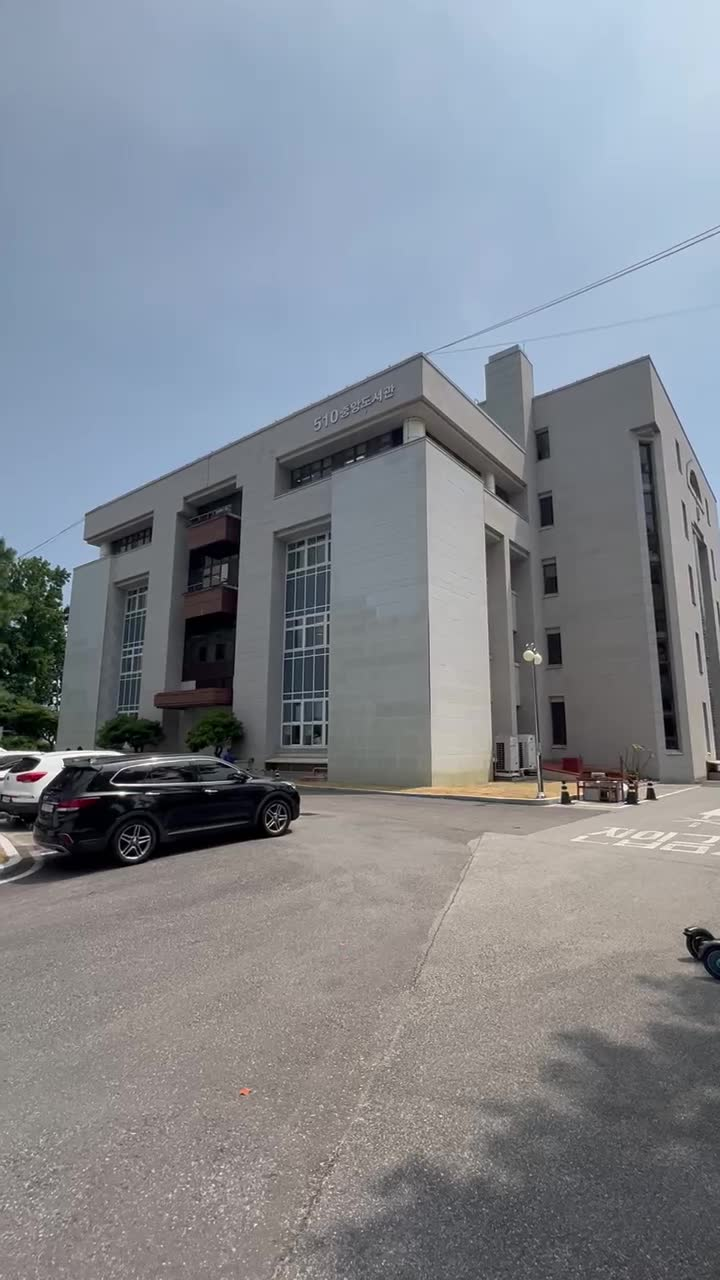low: (0, 328, 720, 778)
